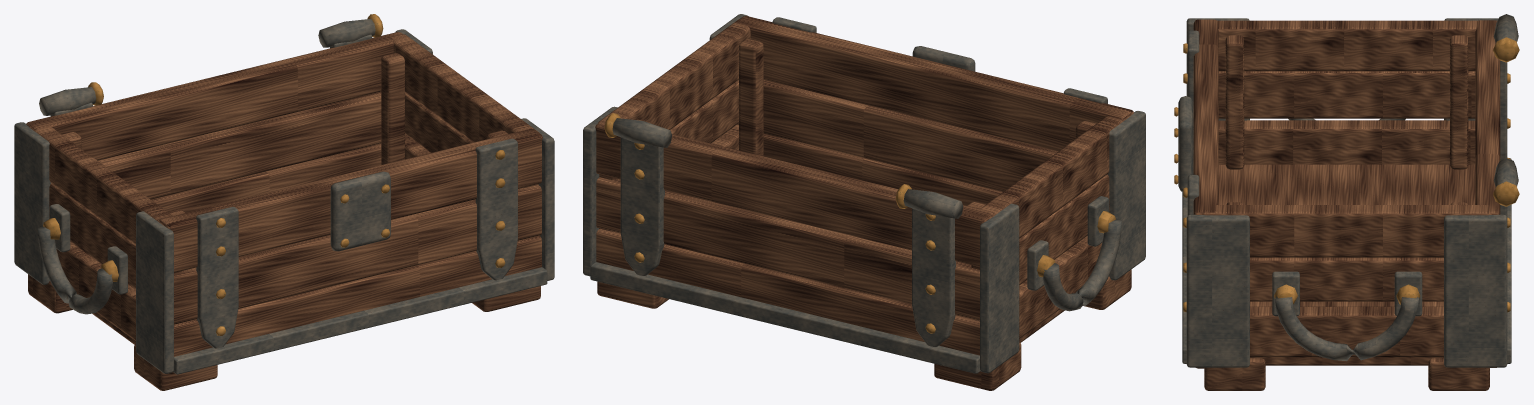
File: coffer_body.glb
3 views of the same model, side by side, from view 1: azimuth 30°, elevation 25°; view 2: azimuth 150°, elevation 25°; view 3: azimuth 270°, elevation 25° (orthographic). The views are drawn at different scales.
Parts seen in each view (by area): view 1: TexturedSurface, BindingIron; view 2: TexturedSurface, BindingIron; view 3: TexturedSurface, BindingIron.
Boxes of the visible parts, x1,y1,x2,y2 form: TexturedSurface: (26, 14, 542, 390); BindingIron: (14, 29, 554, 374); TexturedSurface: (595, 16, 1133, 390); BindingIron: (583, 14, 1145, 373); TexturedSurface: (1174, 14, 1519, 390); BindingIron: (1182, 18, 1511, 367).
Bounding box in the file's own units: 1.08 × 0.4497 × 0.7088.
Materials: 3 (3 with a texture image).
